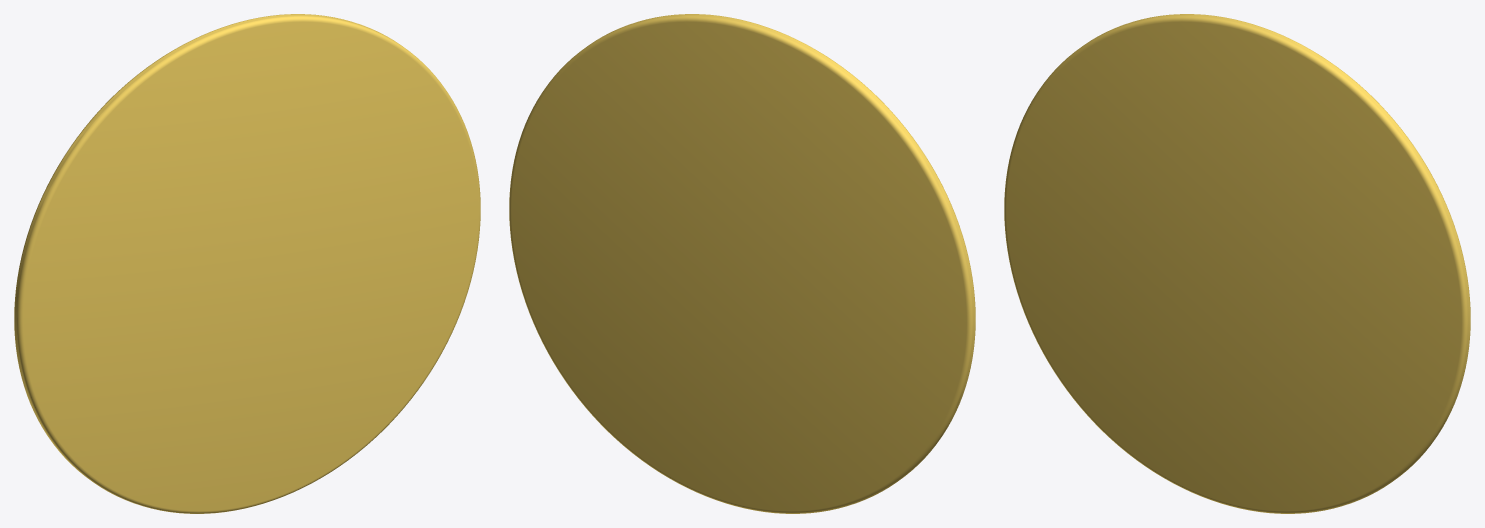
The model's file is coin.gltf.
3 views of the same model, side by side, from view 1: azimuth 30°, elevation 25°; view 2: azimuth 150°, elevation 25°; view 3: azimuth 330°, elevation 25° (orthographic).
Visible parts, largest first — view 1: baked; view 2: baked; view 3: baked.
Boxes of the visible parts, bbox=[...] form: baked: bbox=[14, 14, 480, 513]; baked: bbox=[509, 14, 975, 513]; baked: bbox=[1004, 14, 1470, 513].
Bounding box in the file's own units: 1.55 × 1.55 × 0.04.
